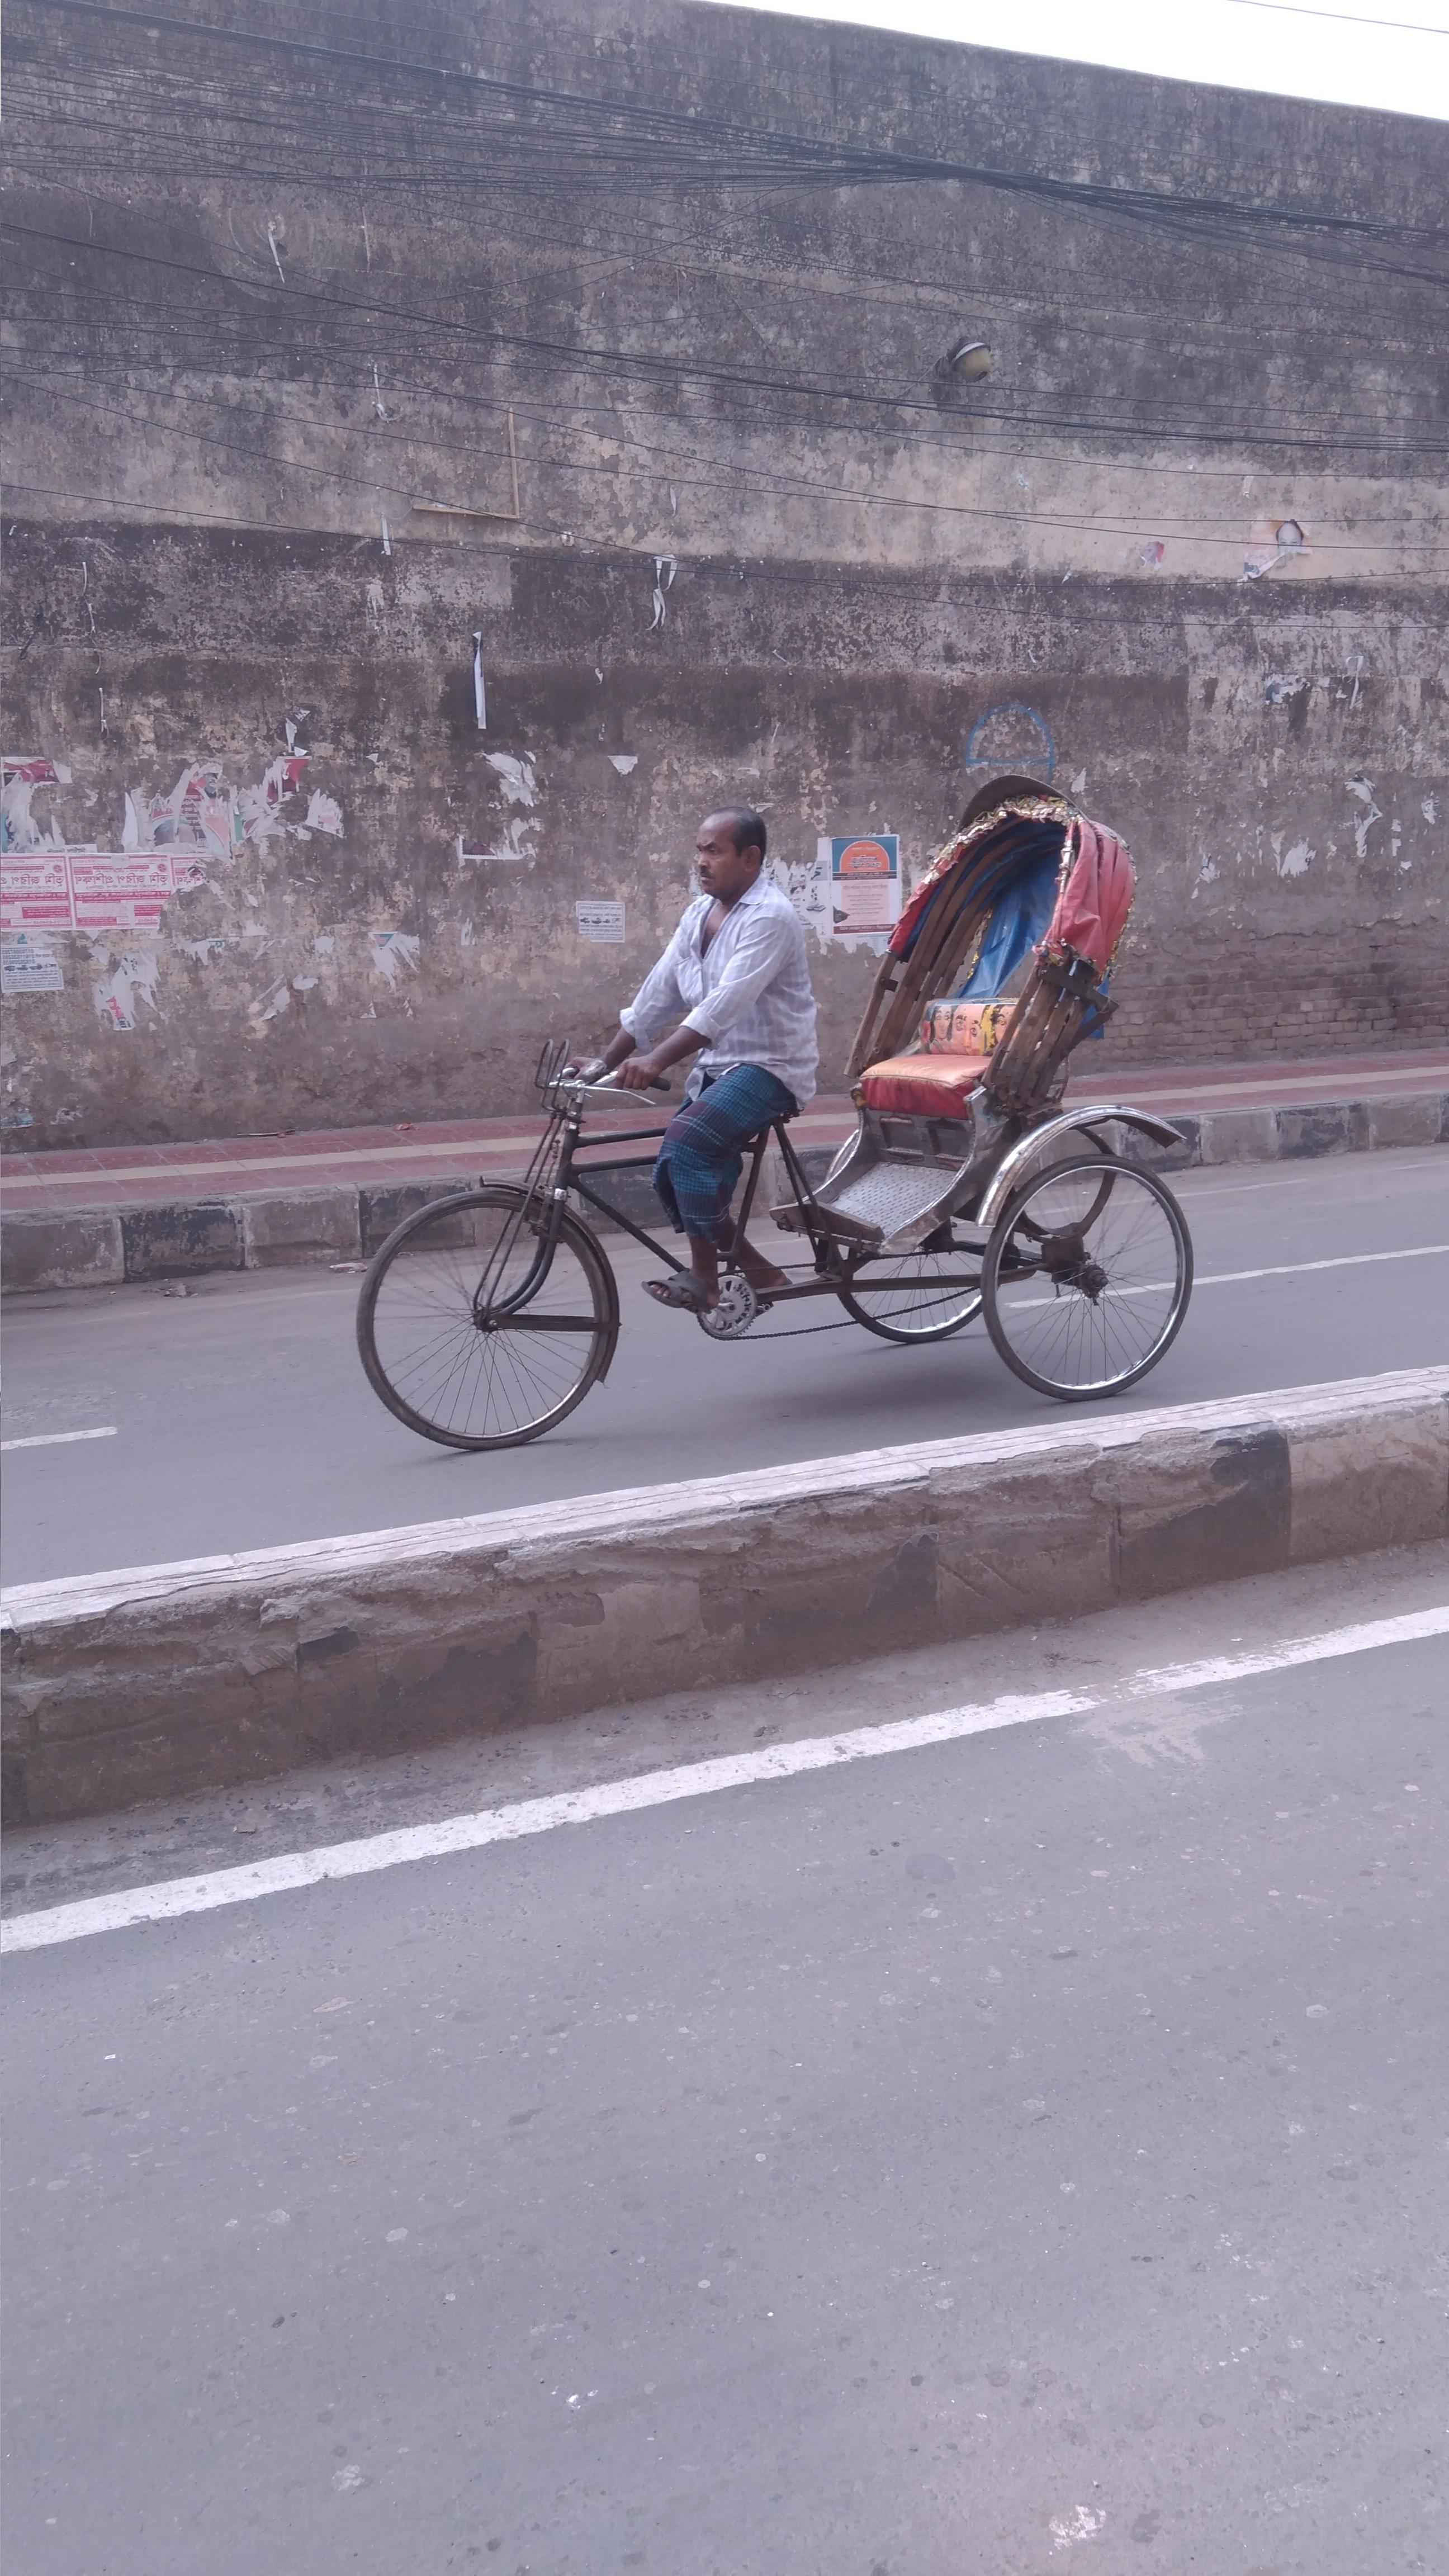Rickshaw: (405, 748, 1203, 1433)
